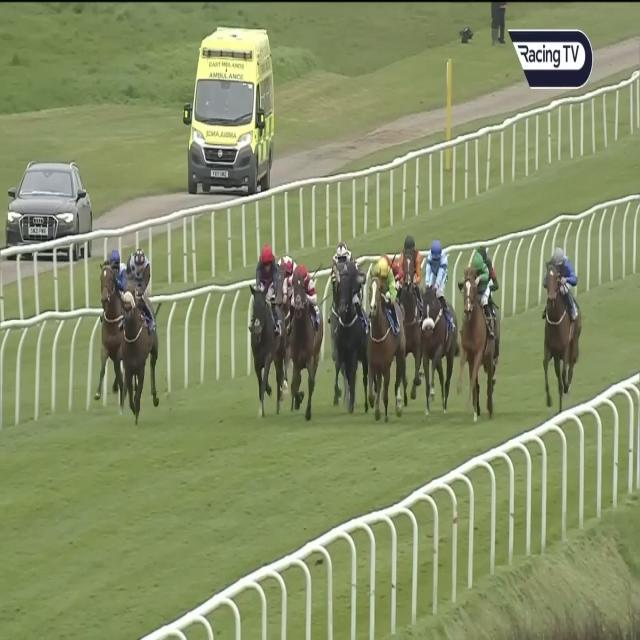horses-racing: (540, 243, 581, 407), (241, 243, 278, 404), (122, 241, 156, 412), (360, 263, 401, 385), (457, 246, 490, 394), (286, 262, 317, 403), (420, 233, 449, 381), (329, 237, 353, 413), (393, 232, 421, 378), (101, 246, 124, 382), (276, 242, 301, 324), (479, 240, 500, 294)
